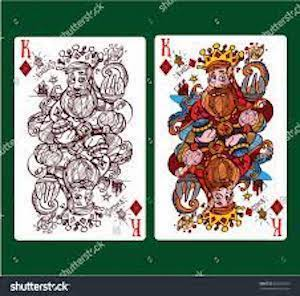KingOfDiamonds: (150, 31, 292, 246), (8, 32, 149, 245)
